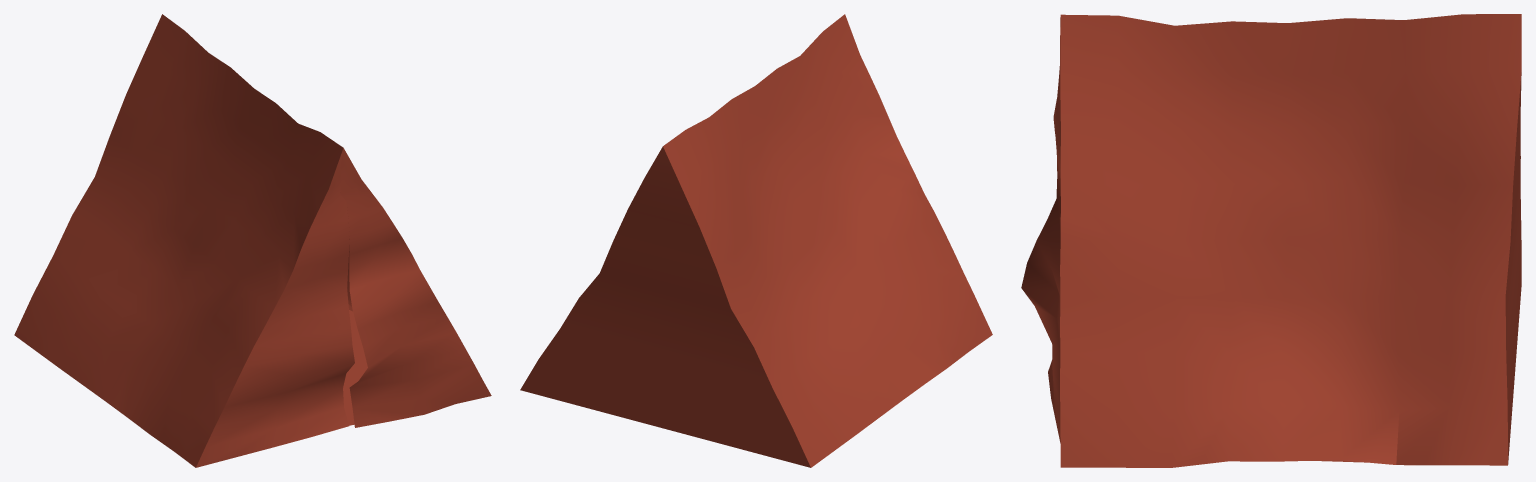
The model's file is tent.glb.
3 views of the same model, side by side, from view 1: azimuth 30°, elevation 25°; view 2: azimuth 150°, elevation 25°; view 3: azimuth 270°, elevation 25° (orthographic). The views are drawn at different scales.
Visible parts, largest first — view 1: Plane; view 2: Plane; view 3: Plane.
Boxes of the visible parts, x1=… form: Plane: x1=14, y1=14, x2=491, y2=467; Plane: x1=520, y1=14, x2=992, y2=467; Plane: x1=1021, y1=14, x2=1521, y2=467.
Size of the model in its own units: 6.53 by 6.14 by 7.53.
